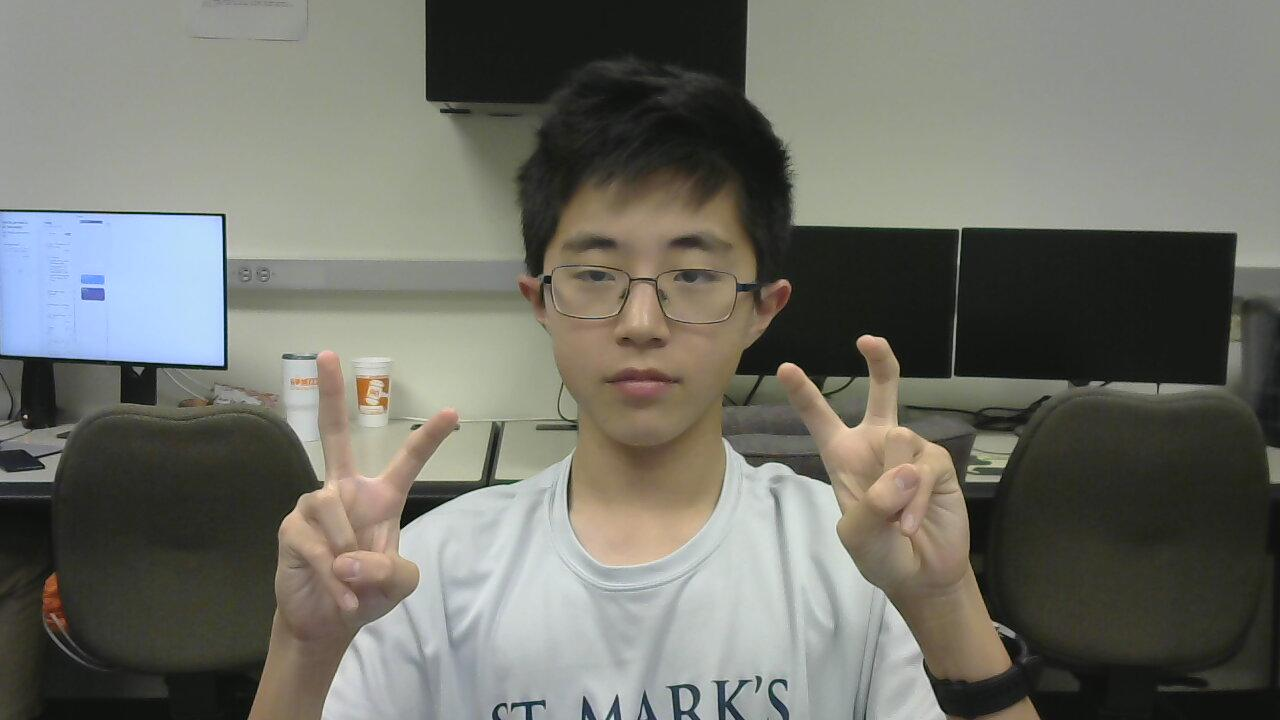peace: (763, 337, 995, 609), (263, 332, 457, 654)
